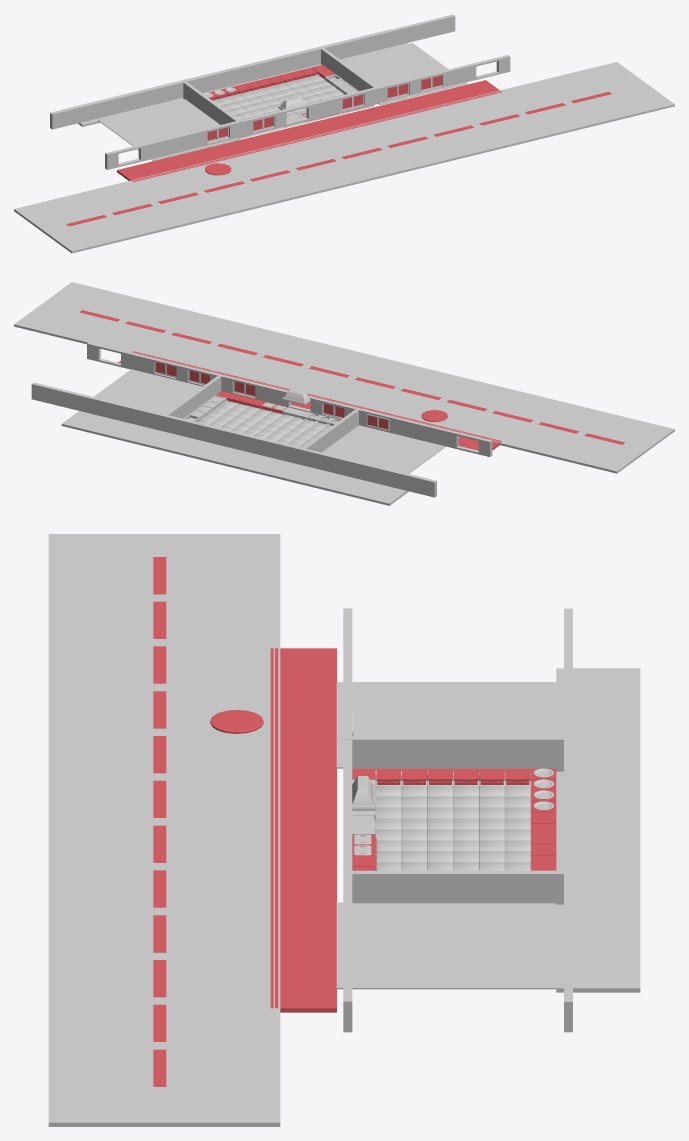
3 renders of one model, top to bottom at view 1: azimuth 30°, elevation 25°; view 2: azimuth 150°, elevation 25°; view 3: azimuth 270°, elevation 25°, orthographic. The views are drawn at different scales.
Visible parts, largest first — view 1: 平面.011, 平面.012, 立方体.014, 平面.009, 平面.008, 立方体.024, 立方体.022, 立方体.023, 立方体.017, 平面.014, 平面, 平面.010 (+7 smaller); view 2: 平面.011, 平面.010, 平面.009, 立方体.014, 平面.008, 立方体.024, 立方体.022, 立方体.023, 立方体.017, 平面.014, 平面.002, 平面.003 (+7 smaller); view 3: 平面.011, 平面.010, 平面.012, 平面.008, 平面.009, 立方体.021, 立方体.020, 平面.014, 平面.003, 平面.001, 平面.002, 平面 (+9 smaller).
Boxes of the visible parts, box(x1,y1,x2,y2) form: 平面.011: box(14, 62, 674, 253); 平面.012: box(117, 80, 499, 180); 立方体.014: box(240, 55, 510, 136); 平面.009: box(98, 99, 240, 160); 平面.008: box(341, 43, 467, 104); 立方体.024: box(50, 80, 185, 129); 立方体.022: box(185, 47, 320, 92); 立方体.023: box(319, 14, 455, 59); 立方体.017: box(105, 120, 241, 169); 平面.014: box(66, 91, 611, 226); 平面: box(217, 75, 363, 138); 平面.010: box(62, 29, 408, 126); 平面.011: box(14, 282, 674, 473); 平面.010: box(61, 411, 408, 505); 平面.009: box(322, 425, 445, 473); 立方体.014: box(87, 342, 357, 419); 平面.008: box(94, 369, 202, 414); 立方体.024: box(300, 448, 436, 497); 立方体.022: box(166, 415, 301, 464); 立方体.023: box(31, 382, 167, 431); 立方体.017: box(356, 407, 492, 456); 平面.014: box(79, 310, 624, 444); 平面.002: box(198, 401, 326, 446); 平面.003: box(198, 402, 331, 447); 平面.011: box(48, 534, 280, 1126); 平面.010: box(556, 668, 640, 992); 平面.012: box(280, 648, 336, 1012); 平面.008: box(336, 902, 556, 989); 平面.009: box(336, 682, 556, 768); 立方体.021: box(352, 870, 564, 904); 立方体.020: box(352, 736, 564, 773); 平面.014: box(153, 557, 166, 1086); 平面.003: box(375, 785, 504, 862); 平面.001: box(374, 785, 530, 862); 平面.002: box(375, 775, 504, 870); 平面: box(374, 775, 530, 870).
Size of the model in its own units: 5383 by 203 by 2286.
